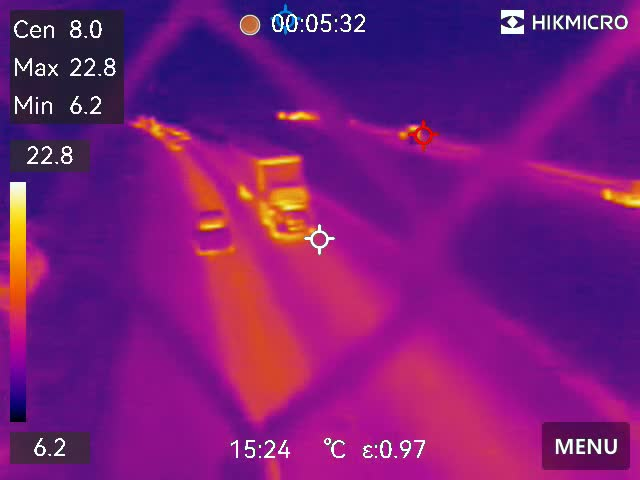heavyTruck: (228, 134, 320, 238)
